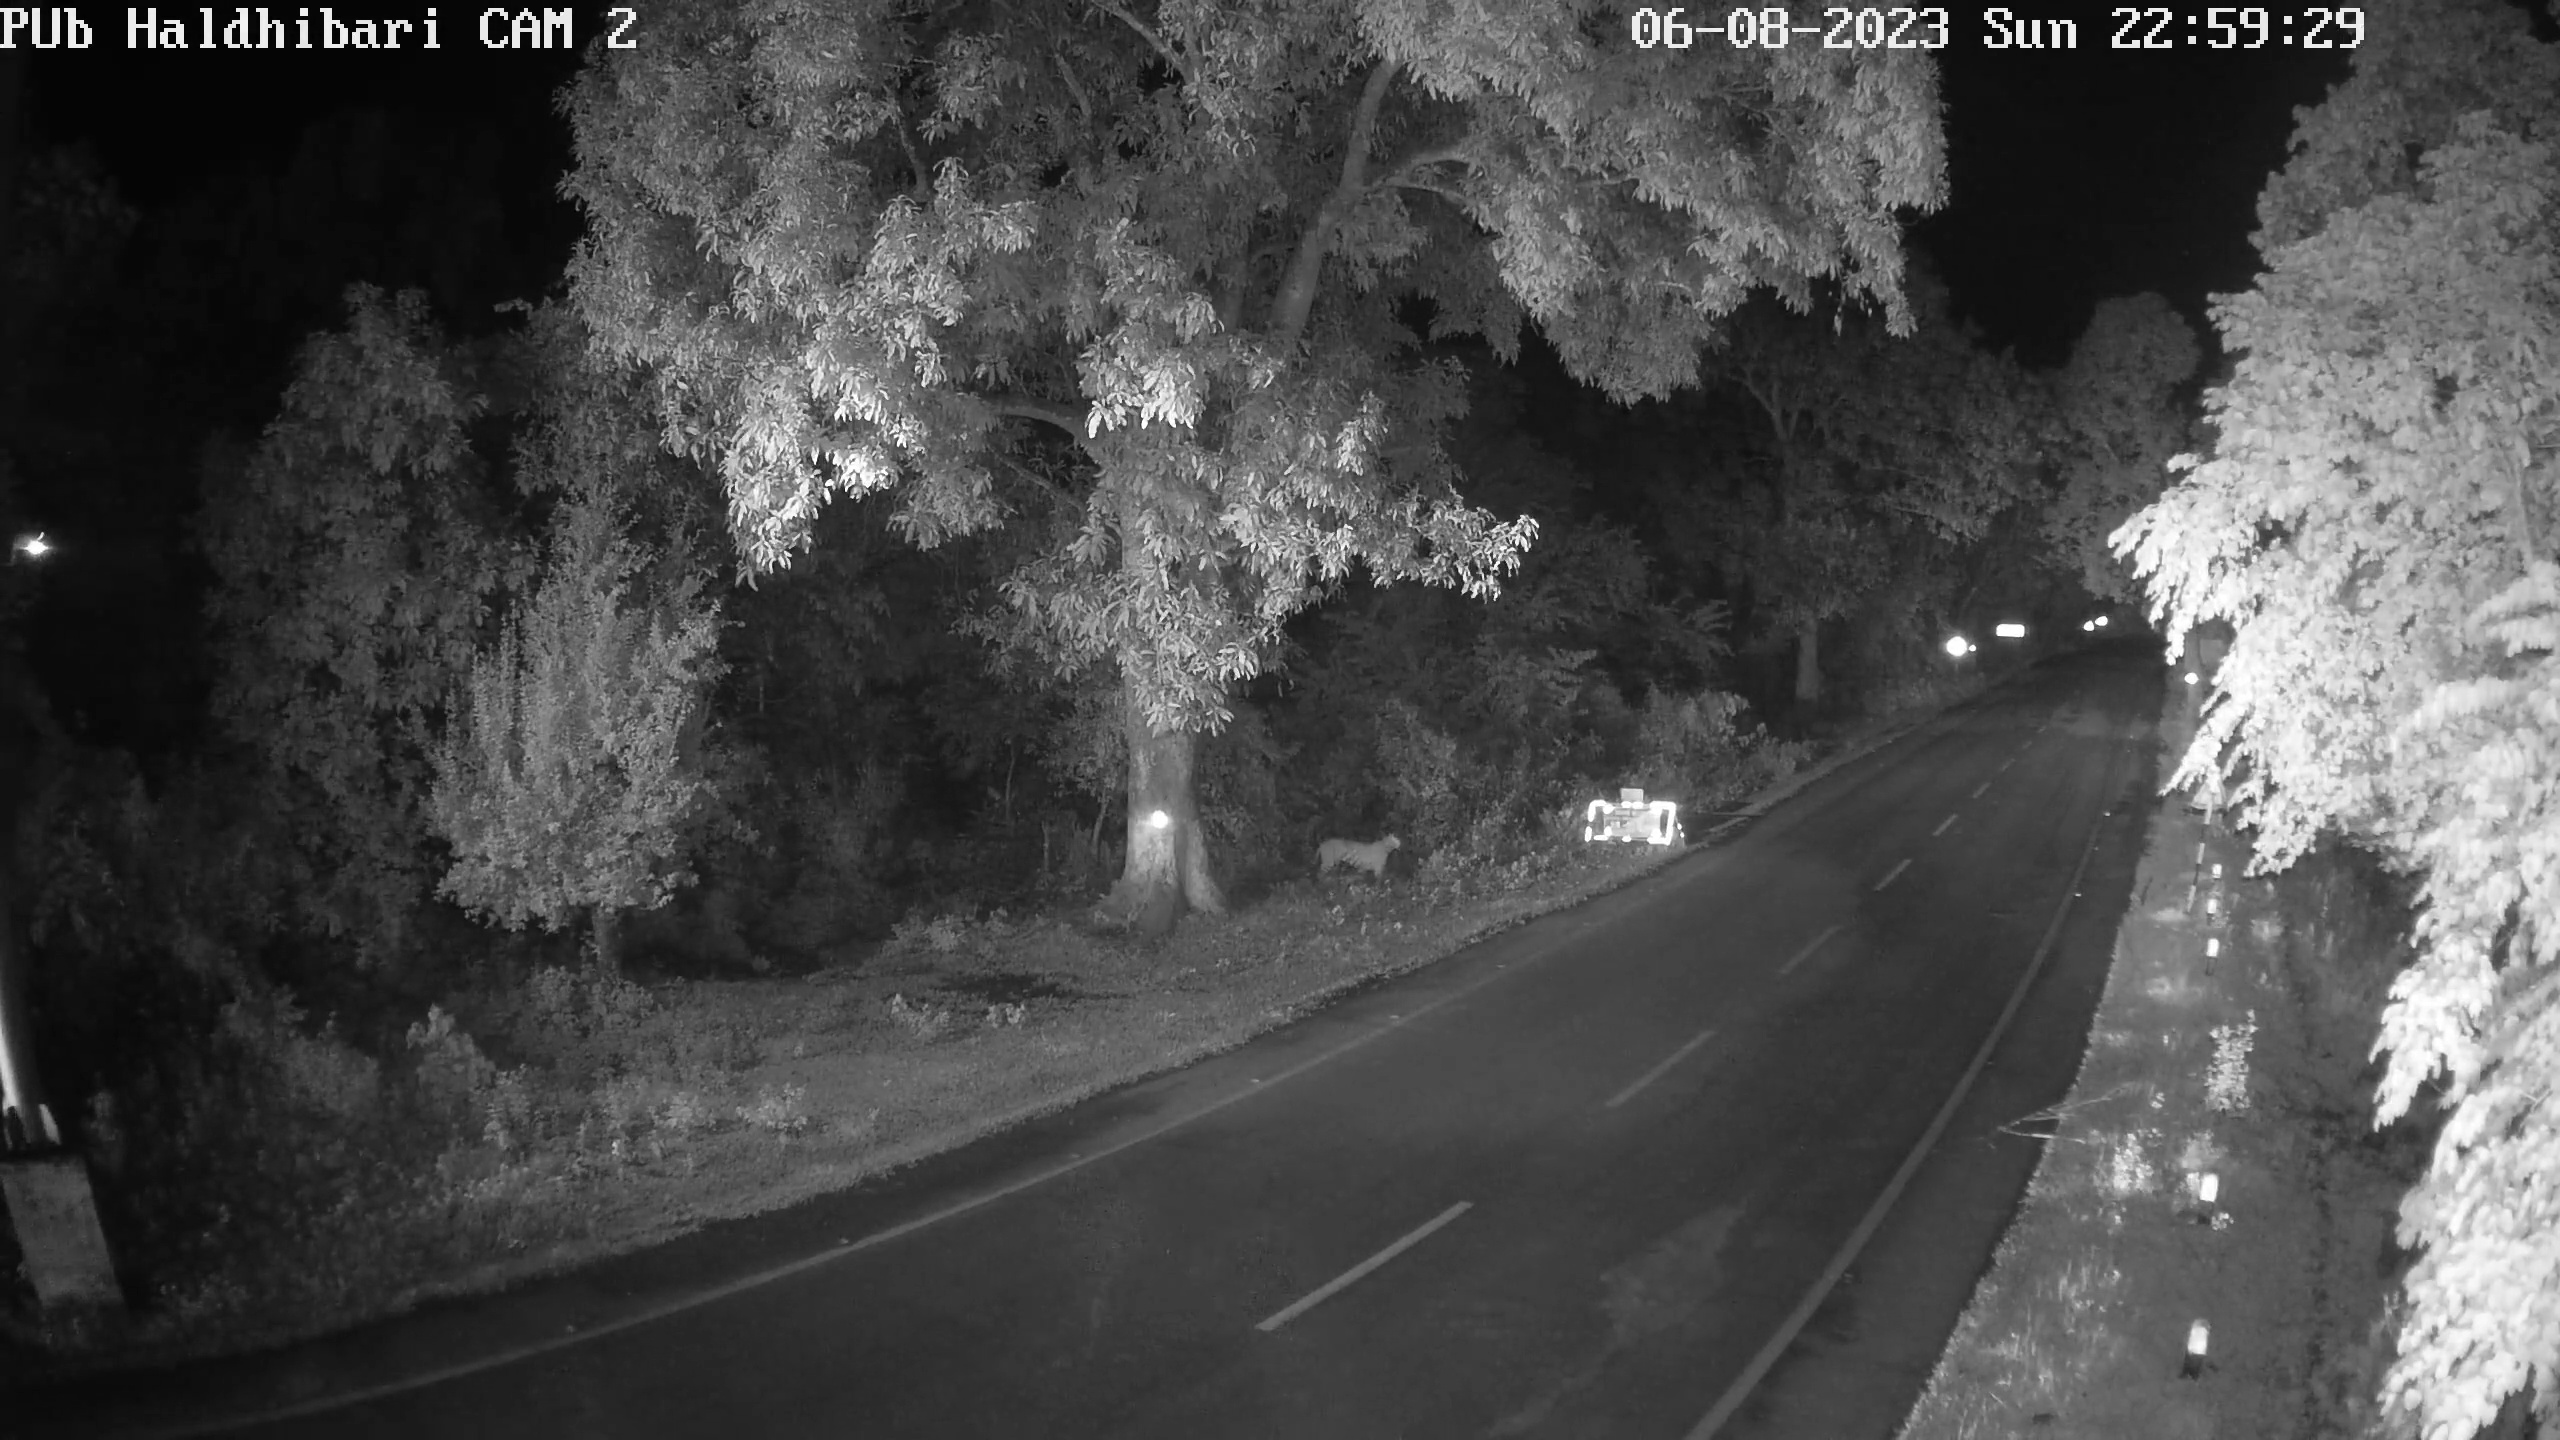tigers: (1310, 833, 1408, 879)
